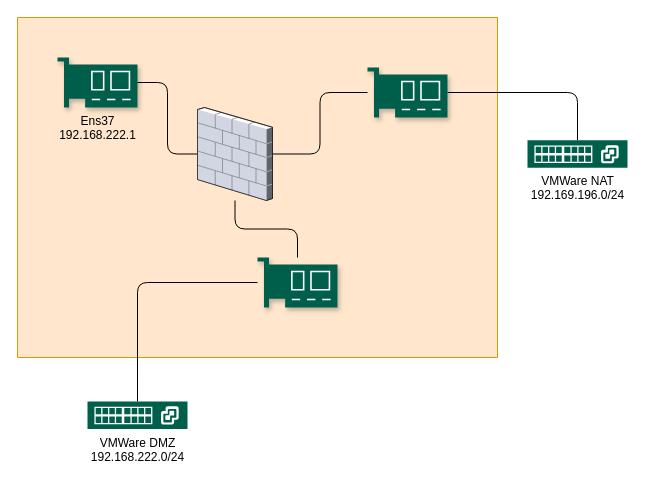
Some shapes in this 645 by 482 pixel diagram are drawn without their labels. The centre of each missing label's shape, as x and y in pixels:
"End33 192.168.196.3" belongs at [408,93].
"Ens38 192.168.200.1" belongs at [298,283].
